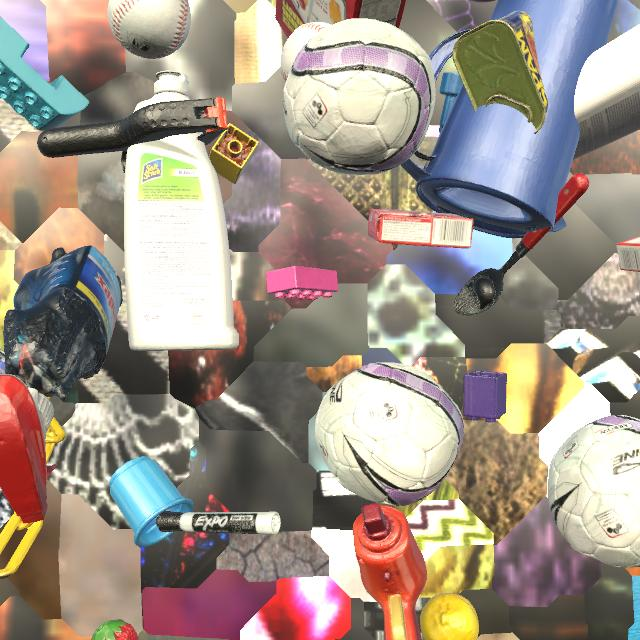ycb_002_master_chef_can: (0, 349, 5, 374)
ycb_003_cracker_box: (275, 0, 406, 38)
ycb_009_gelatin_box: (368, 209, 474, 248), (616, 236, 640, 272)
ycb_010_potted_meat_can: (452, 11, 548, 134)
ycb_012_strawberry: (91, 619, 138, 640)
ycb_013_apple: (469, 0, 496, 3)
ycb_014_lemon: (420, 593, 479, 640)
